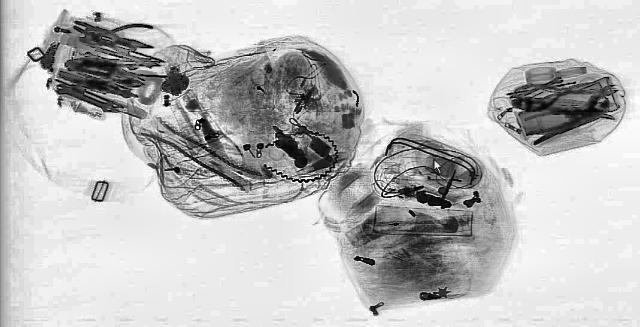Pliers: (70, 16, 172, 62), (532, 76, 634, 118), (512, 102, 614, 136), (64, 18, 158, 52)
Wrench: (48, 81, 120, 113)
